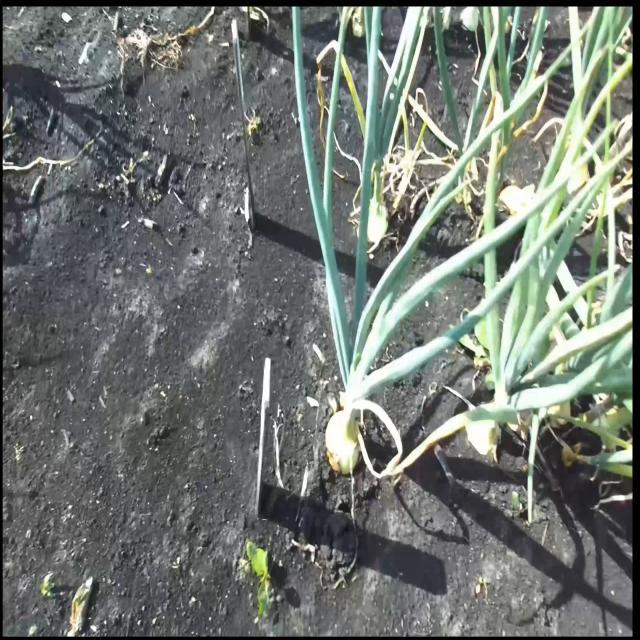onion: (325, 409, 361, 476), (467, 397, 501, 460), (358, 194, 386, 248)
